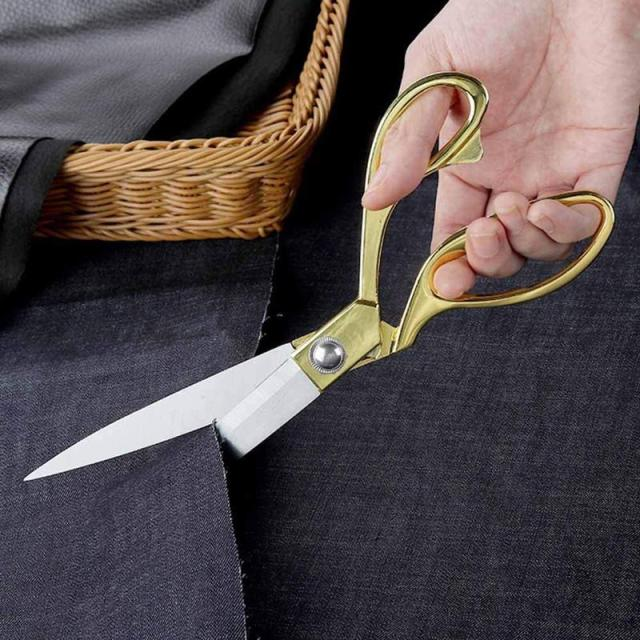scissor: (24, 96, 634, 507)
